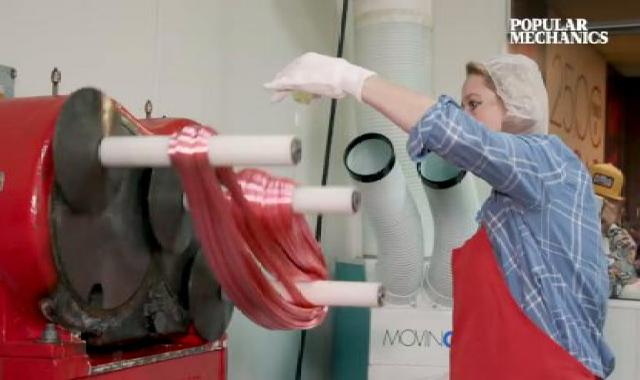hairnet: (444, 46, 563, 142)
